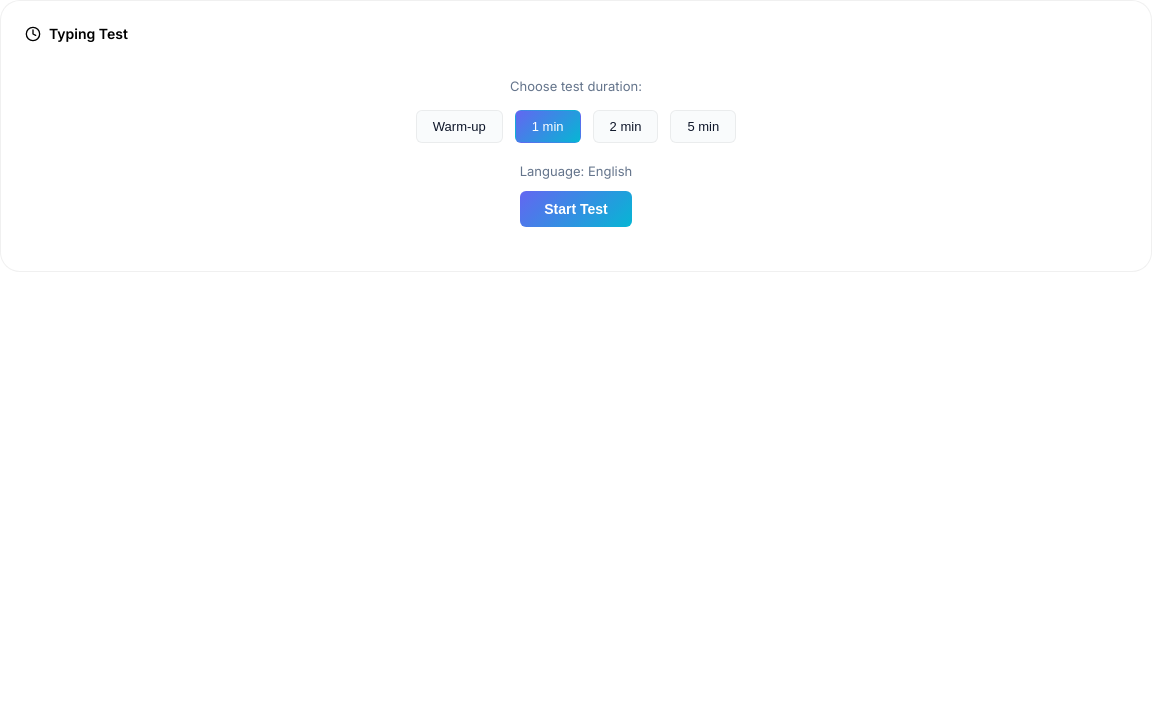
Scenario: TypingTest Integration › test execution › starts test when Start Test is clicked
Click the button "Start Test" at coordinates (576, 209), box [520,191,632,227]
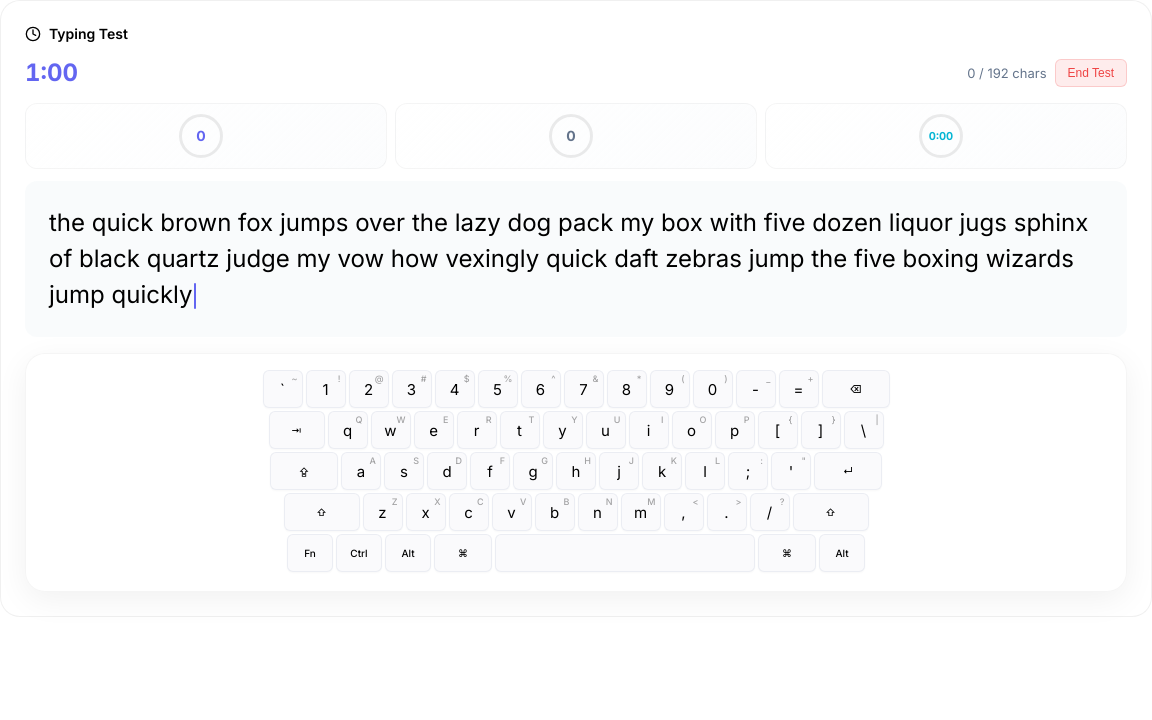
Check: the text "1:00" is shown, box [25,58,78,87]
